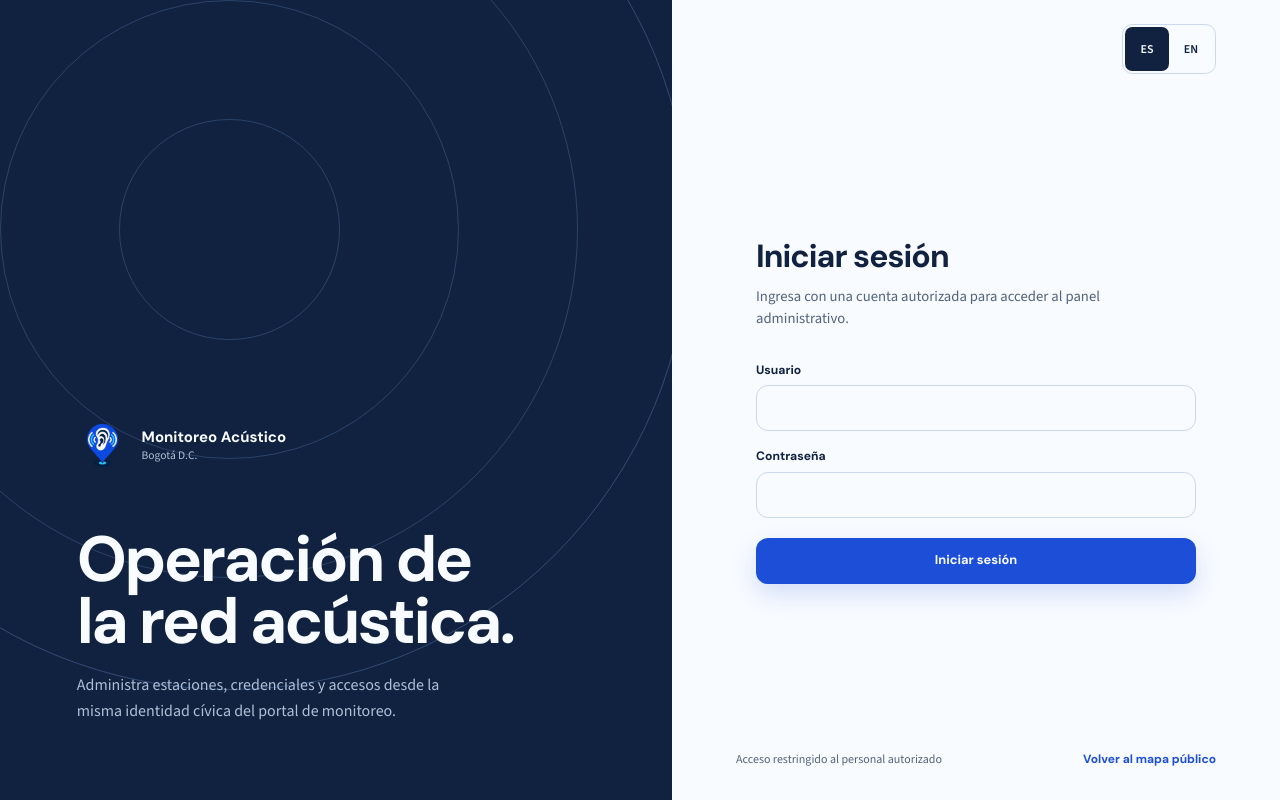
Test: AdminLogin › renders the backend error without exposing an implementation detail
The width and height of the screenshot is (1280, 800).
Type "admin" into the field labelled "Usuario" at (976, 408), box top-left (756, 386), bottom-right (1196, 432)
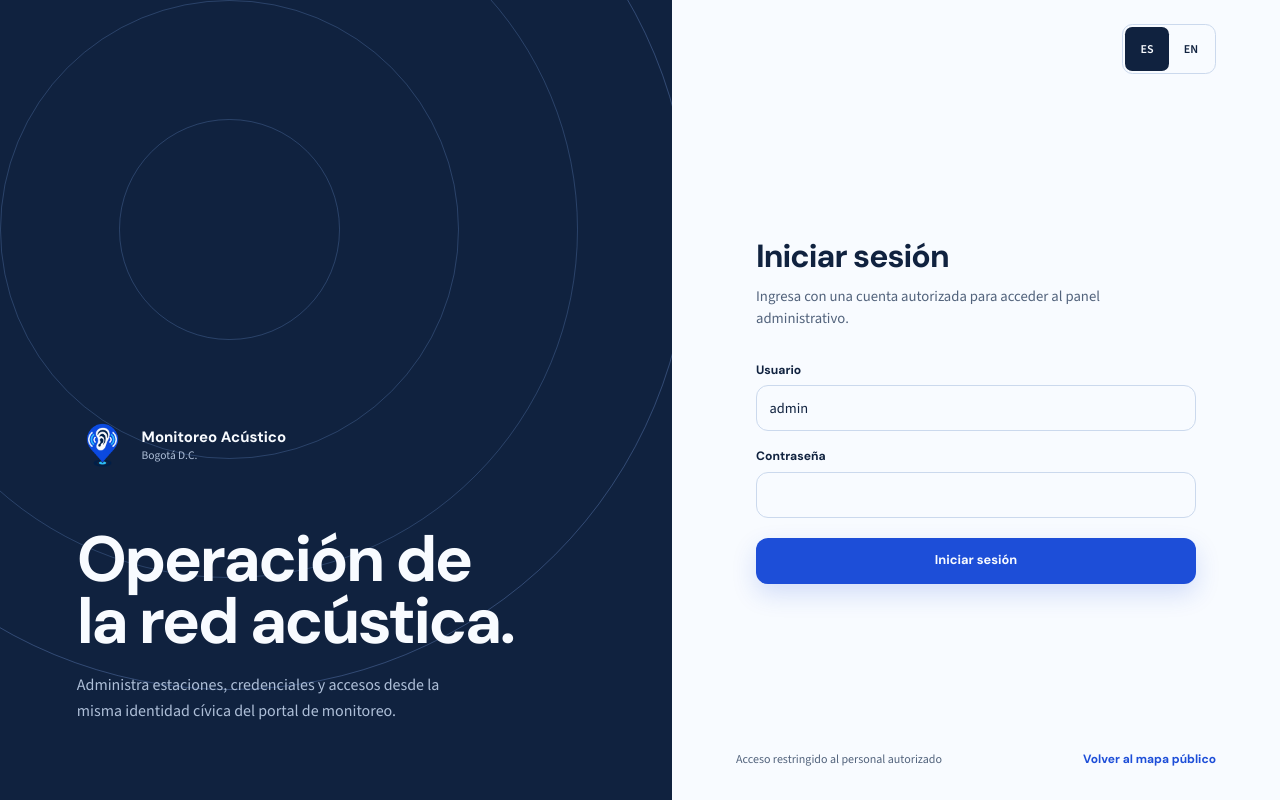
Type "wrong" into the password field labelled "Contraseña" at (976, 495), box top-left (756, 472), bottom-right (1196, 518)
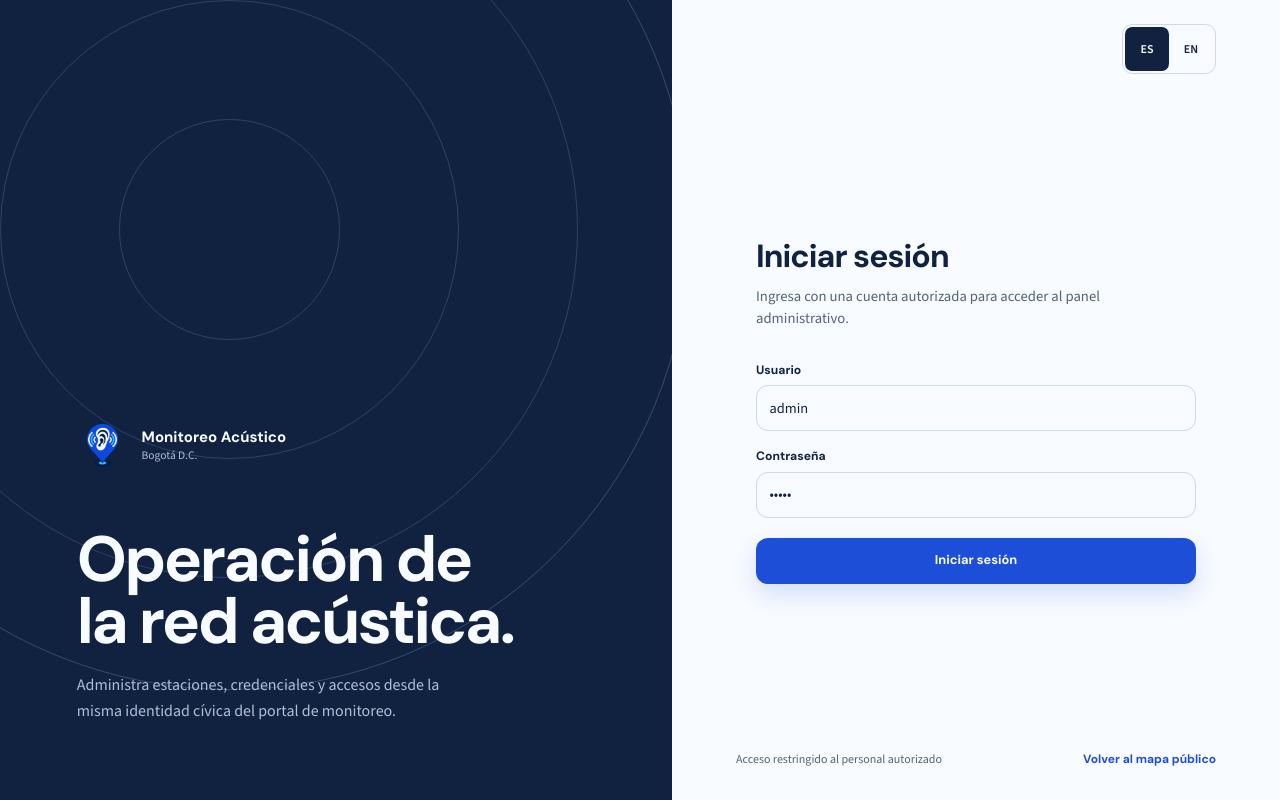
Click the button "Iniciar sesión" at (976, 561), box top-left (756, 538), bottom-right (1196, 584)
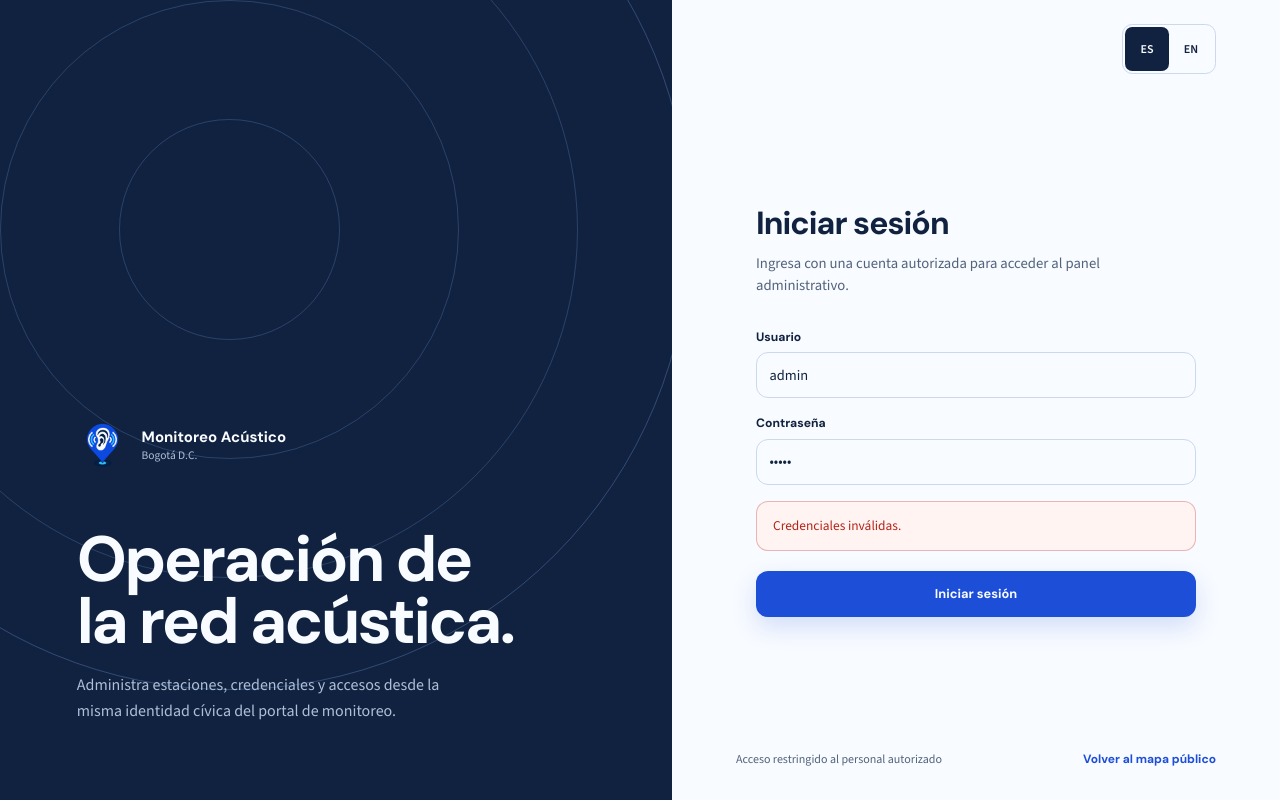
Now the message reads "Credenciales inválidas.", box top-left (773, 517), bottom-right (901, 534)
